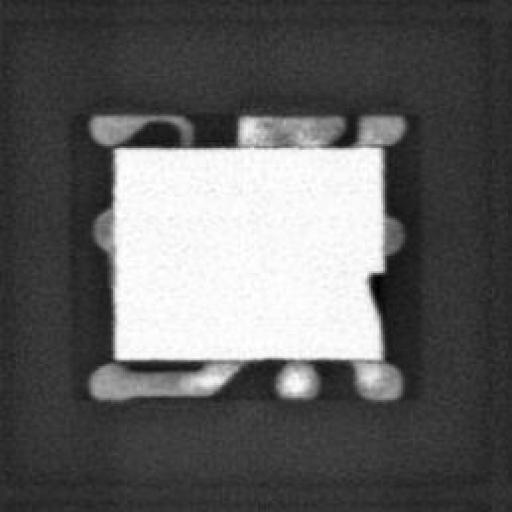DIE_BROKEN: (361, 267, 385, 313)
